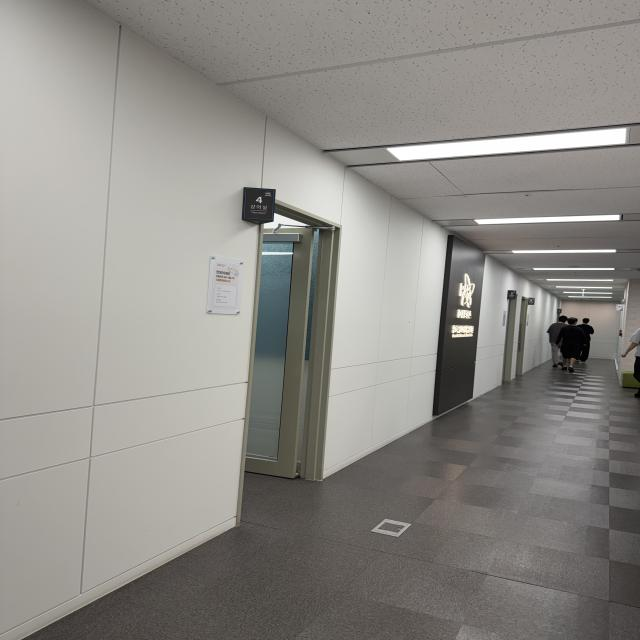room4: (246, 189, 272, 220)
